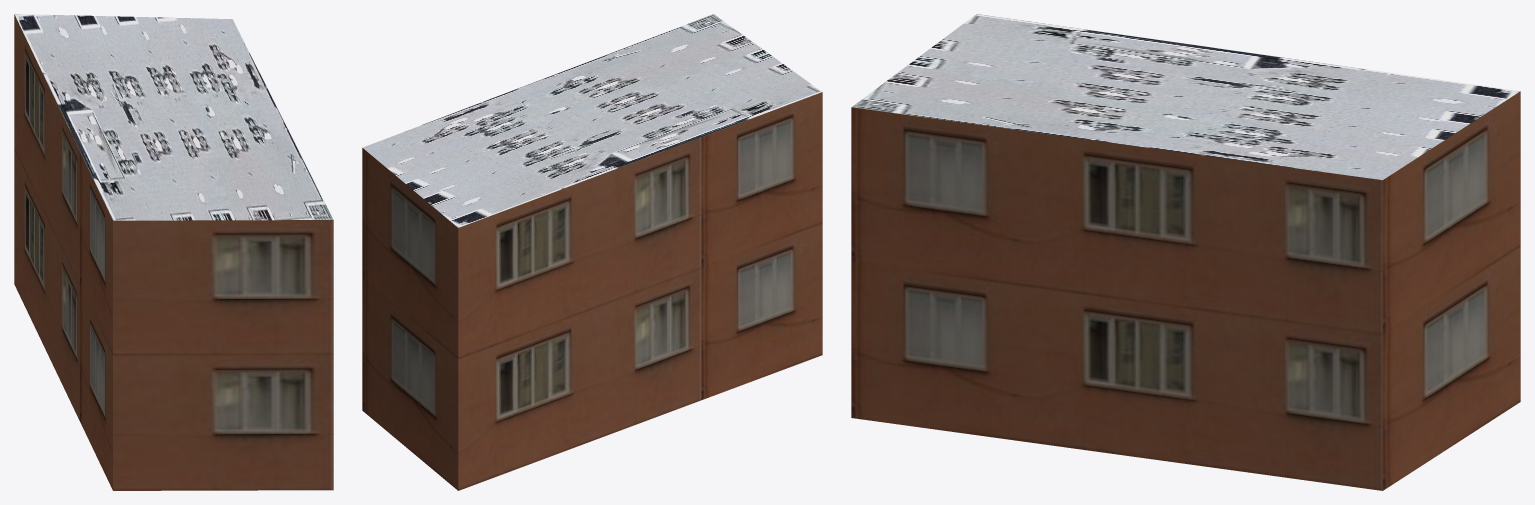
The model's file is ResTex__779.fbx.
The picture shows the model from 3 angles, left to right: view 1: azimuth 30°, elevation 25°; view 2: azimuth 150°, elevation 25°; view 3: azimuth 270°, elevation 25°; orthographic projection. The views are drawn at different scales.
Parts seen in each view (by area): view 1: CityEngineMaterial_20_m, CityEngineMaterial_8_m; view 2: CityEngineMaterial_20_m, CityEngineMaterial_8_m; view 3: CityEngineMaterial_20_m, CityEngineMaterial_8_m.
Part boxes in pixels (<box>): CityEngineMaterial_20_m: <box>14,14,333,490</box>; CityEngineMaterial_8_m: <box>14,14,333,220</box>; CityEngineMaterial_20_m: <box>362,92,822,490</box>; CityEngineMaterial_8_m: <box>363,14,822,227</box>; CityEngineMaterial_20_m: <box>851,91,1520,490</box>; CityEngineMaterial_8_m: <box>852,14,1519,180</box>.
Bounding box in the file's own units: 6.88 × 6 × 11.71.
Materials: 2 (2 with a texture image).
